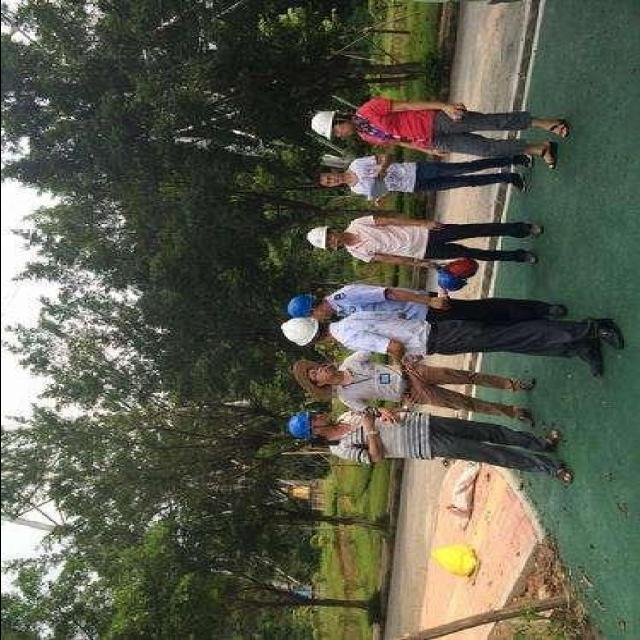helmet: (276, 404, 316, 444), (306, 106, 336, 144), (279, 316, 317, 344), (308, 220, 332, 256)
